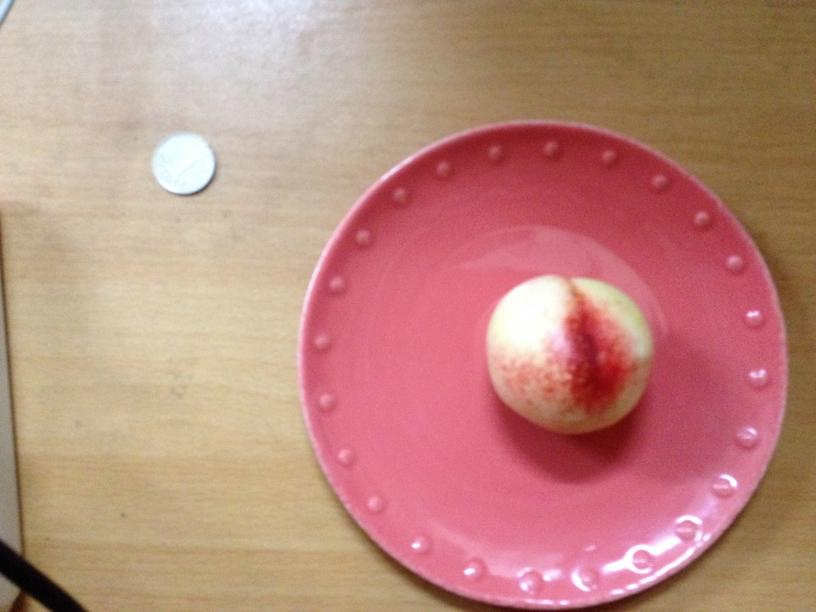coin: (149, 135, 217, 195)
peach: (483, 273, 654, 431)
